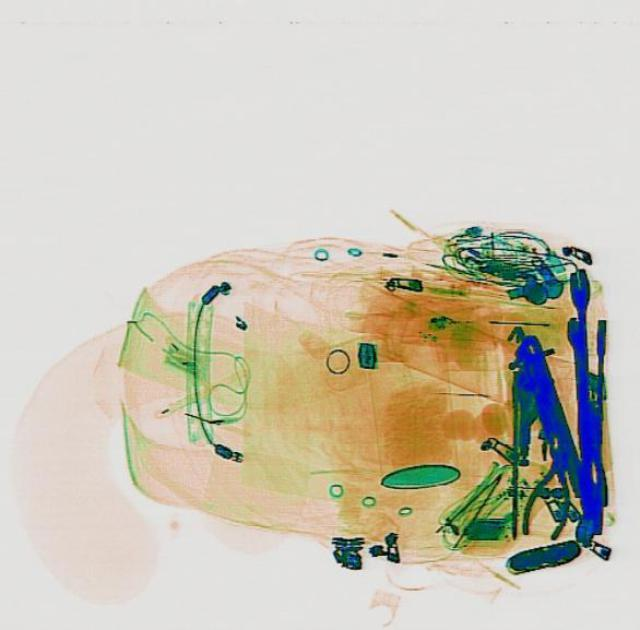Pliers: (514, 431, 588, 540)
